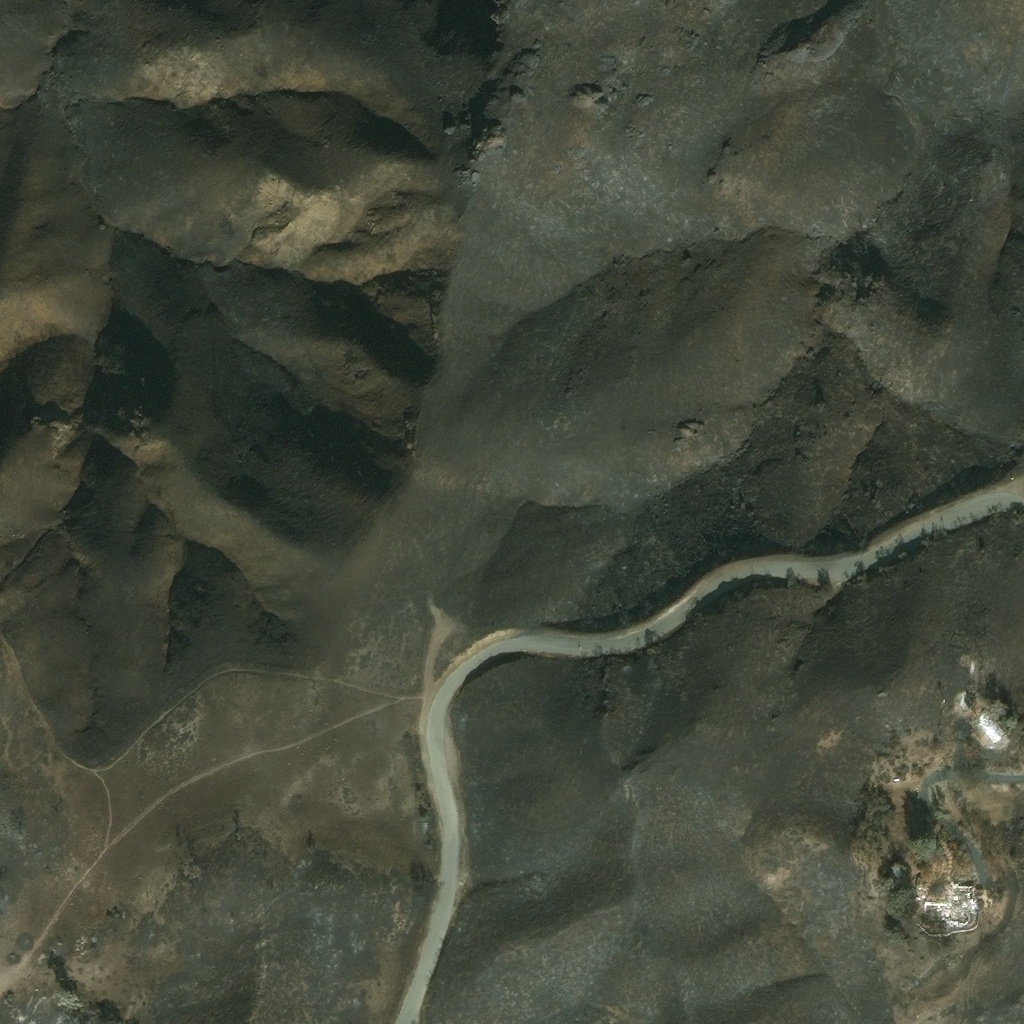3 destroyed: (899, 875, 974, 938), (971, 709, 1011, 745)
